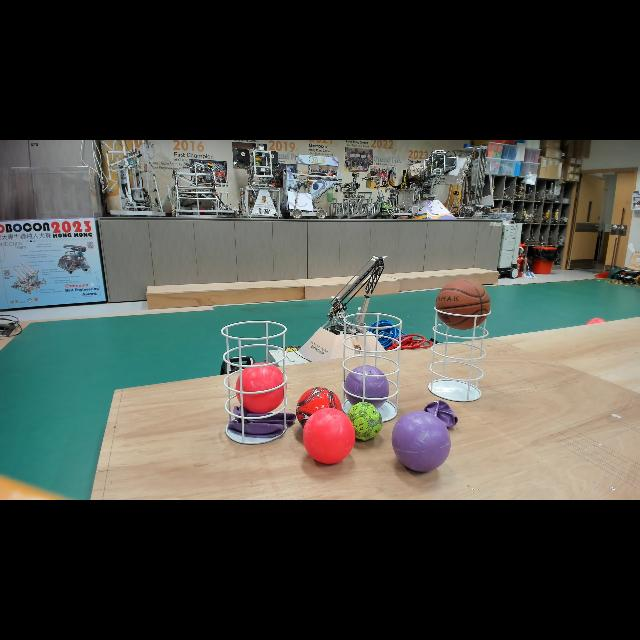P: (391, 410, 454, 474), (342, 365, 392, 411)
R: (302, 407, 358, 467), (234, 360, 288, 416)
S: (220, 320, 288, 444), (341, 312, 403, 424), (428, 305, 492, 403)
